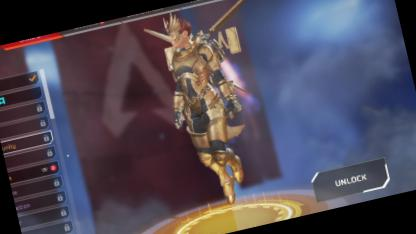Target: (148, 5, 250, 188)
